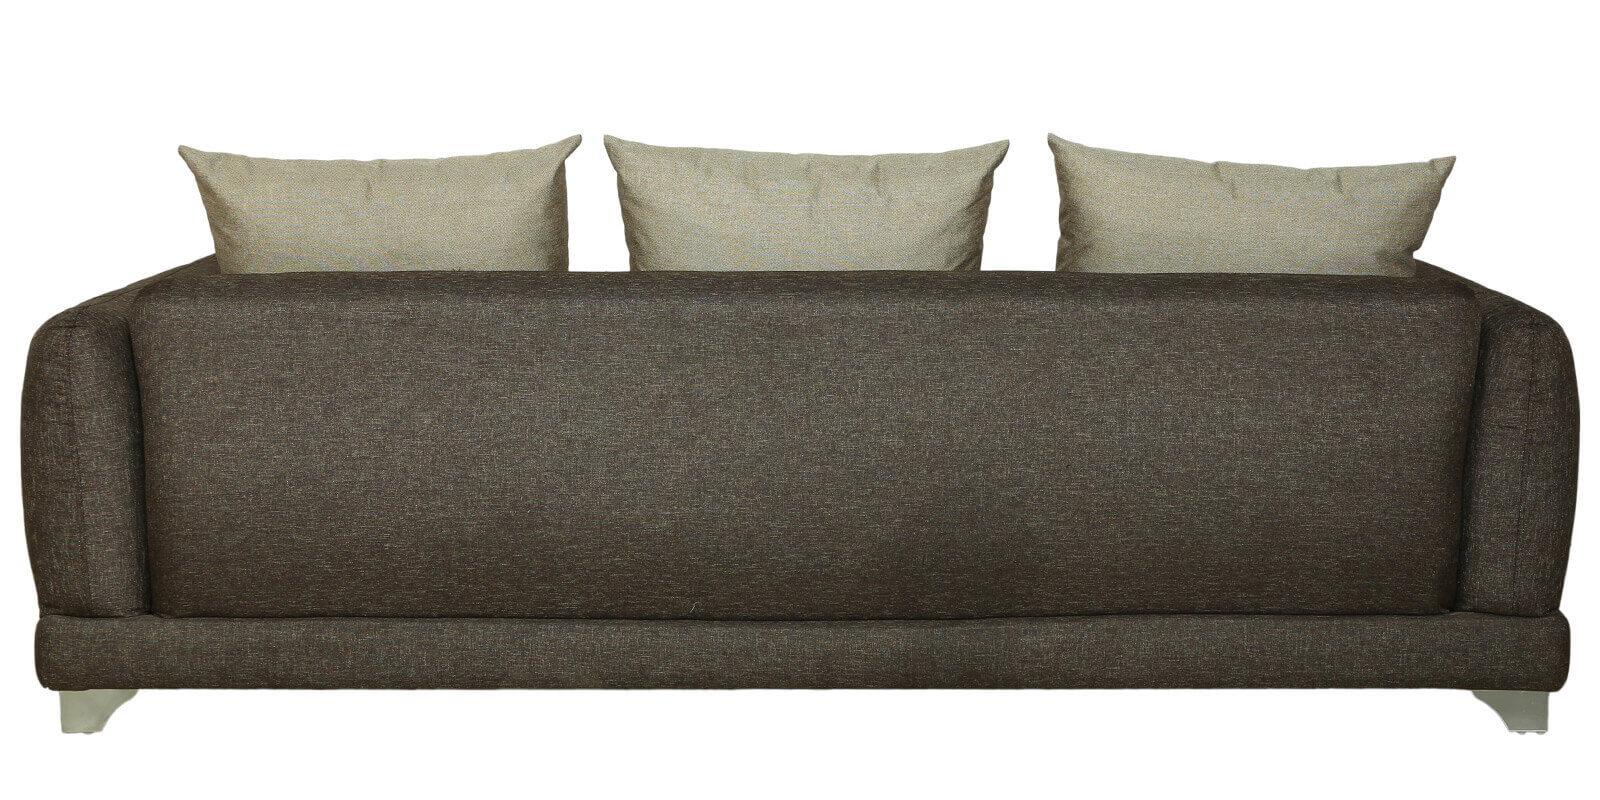Exclusive Three Seater Sofa in Dark Grey Colour by Parin: (24, 121, 1581, 761)
